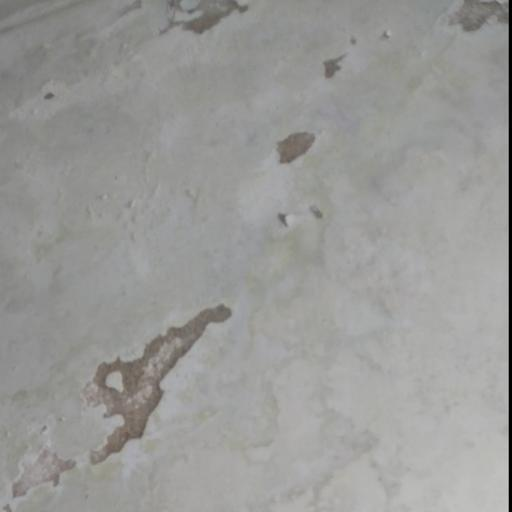peeling: (68, 288, 239, 471), (0, 429, 93, 511), (154, 0, 267, 48), (305, 35, 382, 103), (260, 116, 334, 164), (448, 0, 512, 49)
